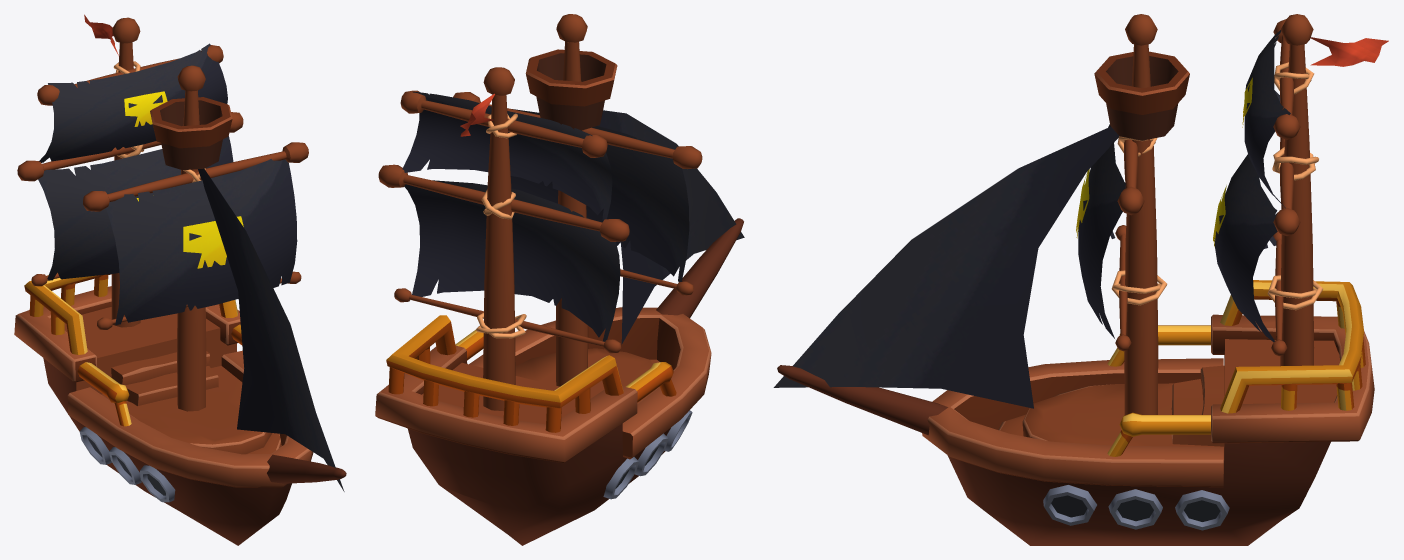
File: Ship_Medium.fbx
3 views of the same model, side by side, from view 1: azimuth 30°, elevation 25°; view 2: azimuth 150°, elevation 25°; view 3: azimuth 270°, elevation 25° (orthographic). The views are drawn at different scales.
Visible parts, largest first — view 1: Color_01, Color_Cloth_01; view 2: Color_01, Color_Cloth_01; view 3: Color_01, Color_Cloth_01.
Boxes of the visible parts, left/top/right/bottom form: Color_01: left=14, top=17, right=346, bottom=545; Color_Cloth_01: left=38, top=14, right=344, bottom=491; Color_01: left=375, top=14, right=743, bottom=545; Color_Cloth_01: left=402, top=91, right=744, bottom=344; Color_01: left=777, top=14, right=1374, bottom=545; Color_Cloth_01: left=773, top=30, right=1388, bottom=408.
Bounding box in the file's own units: 18.21 × 34.41 × 36.15.
